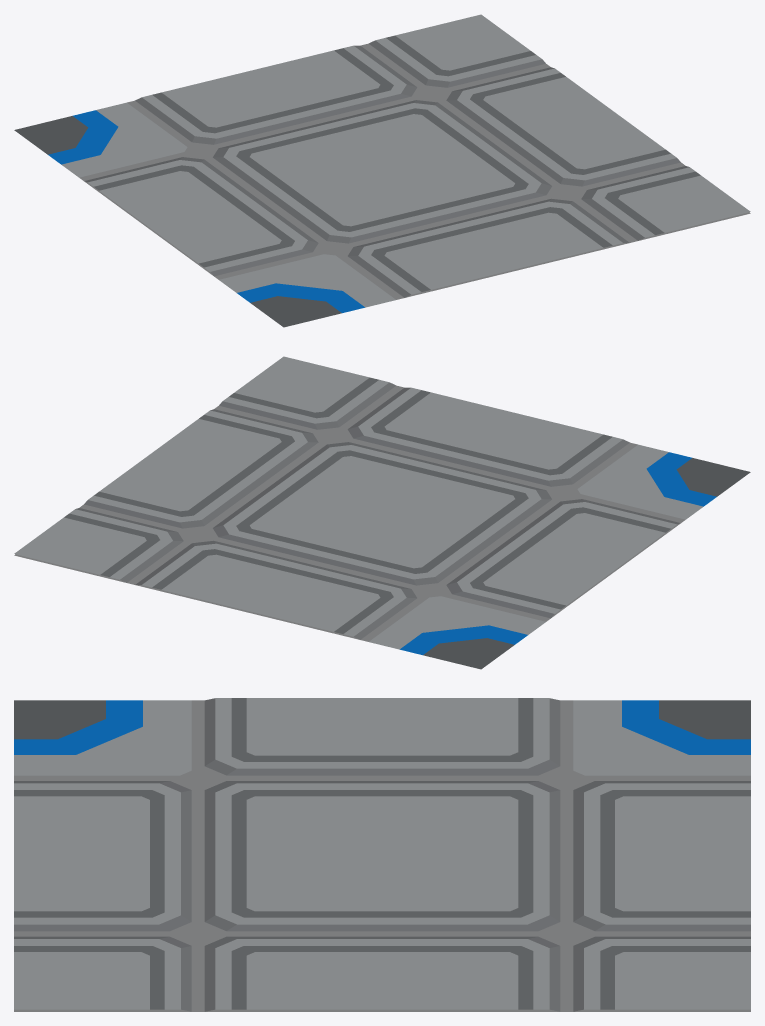
Rendered from Floor_type_B_033.fbx.
3 renders of one model, top to bottom at view 1: azimuth 30°, elevation 25°; view 2: azimuth 150°, elevation 25°; view 3: azimuth 270°, elevation 25°, orthographic. The views are drawn at different scales.
Parts seen in each view (by area): view 1: Floor_type_B_033; view 2: Floor_type_B_033; view 3: Floor_type_B_033.
Boxes of the visible parts, x1=… form: Floor_type_B_033: x1=14, y1=14, x2=750, y2=327; Floor_type_B_033: x1=14, y1=356, x2=750, y2=669; Floor_type_B_033: x1=14, y1=698, x2=750, y2=1011.
Bounding box in the file's own units: 400 × 400 × 1.34.
